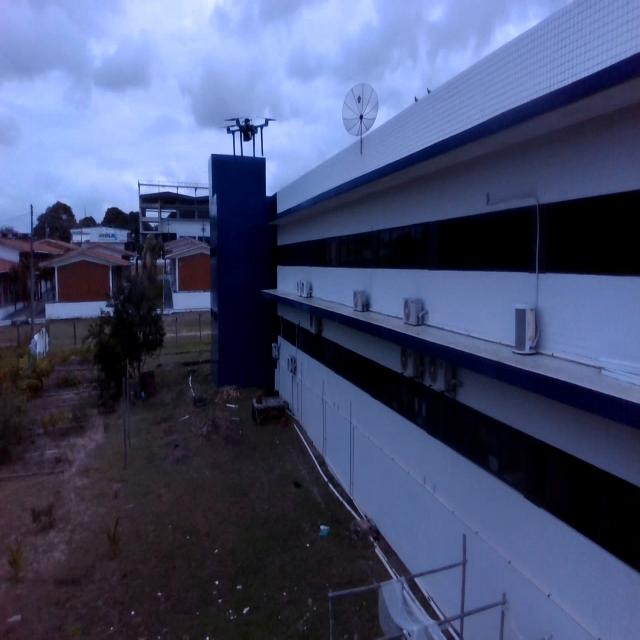-uav-: (221, 104, 277, 167)
